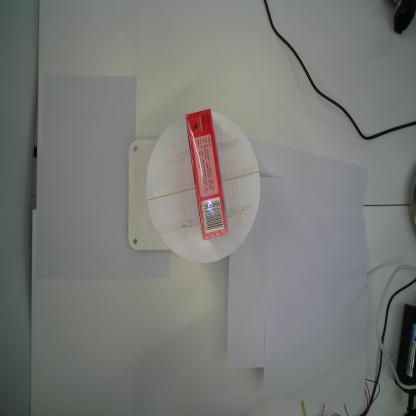Instant Drink: (185, 108, 229, 241)
